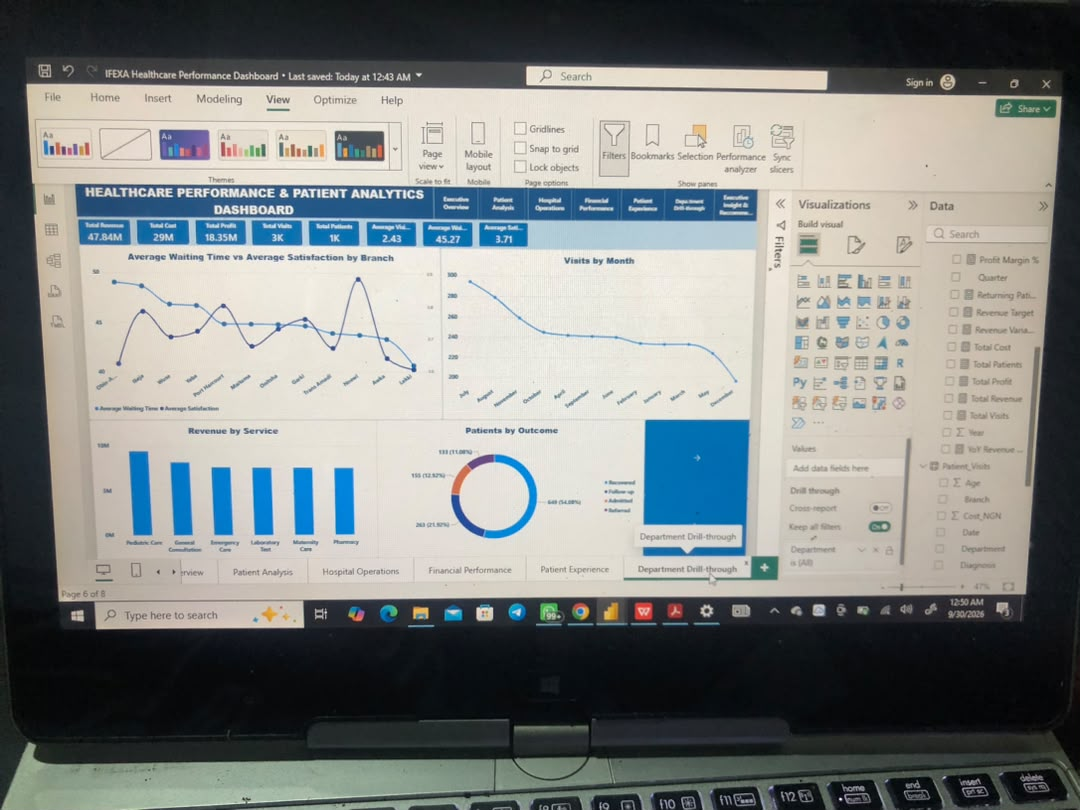

The page's visual inventory and layout, read from the dashboard file:
{"tool":"powerbi","page":{"name":"Department Drill-through","canvas":[1920,1080],"ordinal":5},"visuals":[{"type":"cardVisual","fields":{"Data":["Date_Table.Total Revenue"]},"box":[0,95.9,146.9,73.5],"z":1000},{"type":"cardVisual","fields":{"Data":["Date_Table.Total Cost"]},"box":[161.2,95.9,149,71.4],"z":2000},{"type":"cardVisual","fields":{"Data":["Date_Table.Total Profit"]},"box":[324.5,95.9,144.9,71.4],"z":3000},{"type":"cardVisual","fields":{"Data":["Date_Table.Total Visits"]},"box":[483.7,95.9,144.9,73.5],"z":4000},{"type":"cardVisual","fields":{"Data":["Date_Table.Total Patients"]},"box":[642.9,95.9,144.9,73.5],"z":5000},{"type":"cardVisual","fields":{"Data":["Date_Table.Average Visits per Patient"]},"box":[803.6,97.8,142.4,70.2],"z":6000},{"type":"cardVisual","fields":{"Data":["Date_Table.Average Waiting Time"]},"box":[960.9,95.7,144.9,71.4],"z":7000},{"type":"cardVisual","fields":{"Data":["Date_Table.Average Satisfaction"]},"box":[1120.4,95.7,142.4,70.2],"z":8000},{"type":"textbox","box":[0,0,995,90],"z":9000},{"type":"pageNavigator","box":[995,0,925,90],"z":10000},{"type":"lineChart","title":"Visits by Month","fields":{"Category":["Date_Table.Month"],"Y":["Date_Table.Total Visits"]},"box":[1012.5,170,907.5,495],"z":11000},{"type":"donutChart","title":"Patients by Outcome","fields":{"Category":["Patient_Visits.Outcome"],"Y":["Date_Table.Total Patients"]},"box":[820,665,790,415],"z":12000},{"type":"clusteredColumnChart","title":"Revenue by Service","fields":{"Category":["Patient_Visits.Service"],"Y":["Date_Table.Total Revenue"]},"box":[0,665.4,820.6,414.6],"z":13000},{"type":"lineChart","title":"Average Waiting Time vs Average Satisfaction by Branch","fields":{"Category":["Patient_Visits.Branch"],"Y":["Date_Table.Average Waiting Time"],"Y2":["Date_Table.Average Satisfaction"]},"box":[0,167.5,1012,497.5],"z":14000},{"type":"actionButton","box":[1610,665,310,230],"z":14001},{"type":"actionButton","box":[1610,895,310,185],"z":14002}]}

Visuals, with their boxes on the page's 1920x1080 design canvas (x1, y1, x2, y2). These are canvas units, not pixel positions in the 1080x810 screenshot, which may show the page scaled, cropped or inside an application window:
cardVisual - Date_Table.Total Revenue: crop(0, 96, 147, 169)
cardVisual - Date_Table.Total Cost: crop(161, 96, 310, 167)
cardVisual - Date_Table.Total Profit: crop(324, 96, 469, 167)
cardVisual - Date_Table.Total Visits: crop(484, 96, 629, 169)
cardVisual - Date_Table.Total Patients: crop(643, 96, 788, 169)
cardVisual - Date_Table.Average Visits per Patient: crop(804, 98, 946, 168)
cardVisual - Date_Table.Average Waiting Time: crop(961, 96, 1106, 167)
cardVisual - Date_Table.Average Satisfaction: crop(1120, 96, 1263, 166)
textbox: crop(0, 0, 995, 90)
pageNavigator: crop(995, 0, 1920, 90)
"Visits by Month" lineChart: crop(1012, 170, 1920, 665)
"Patients by Outcome" donutChart: crop(820, 665, 1610, 1080)
"Revenue by Service" clusteredColumnChart: crop(0, 665, 821, 1080)
"Average Waiting Time vs Average Satisfaction by Branch" lineChart: crop(0, 168, 1012, 665)
actionButton: crop(1610, 665, 1920, 895)
actionButton: crop(1610, 895, 1920, 1080)
